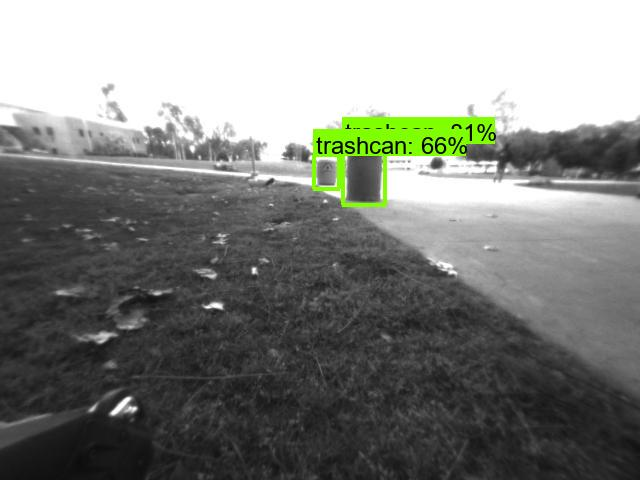trashcan: (346, 146, 383, 202), (317, 154, 338, 186)
